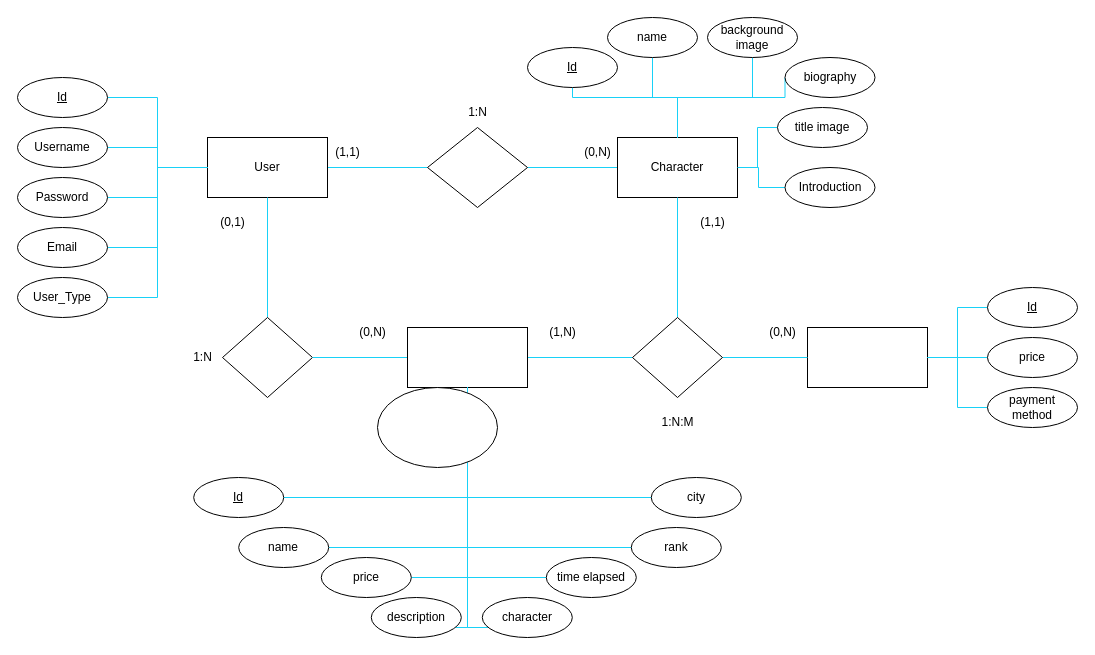
Some shapes in this 1095 by 655 pixel diagram are drawn without their labels. Each missing label, with the box of its shape:
Create: (426, 126, 528, 208)
Have: (632, 316, 722, 398)
Register: (222, 316, 312, 398)
Training: (406, 326, 528, 388)
Transaction: (806, 326, 928, 388)
